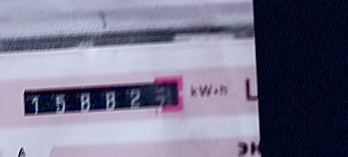1: (31, 93, 41, 112)
2: (129, 86, 142, 107)
5: (53, 92, 68, 112)
7: (154, 92, 166, 105)
8: (103, 87, 118, 109), (80, 90, 93, 110)
screen: (18, 73, 189, 121)
